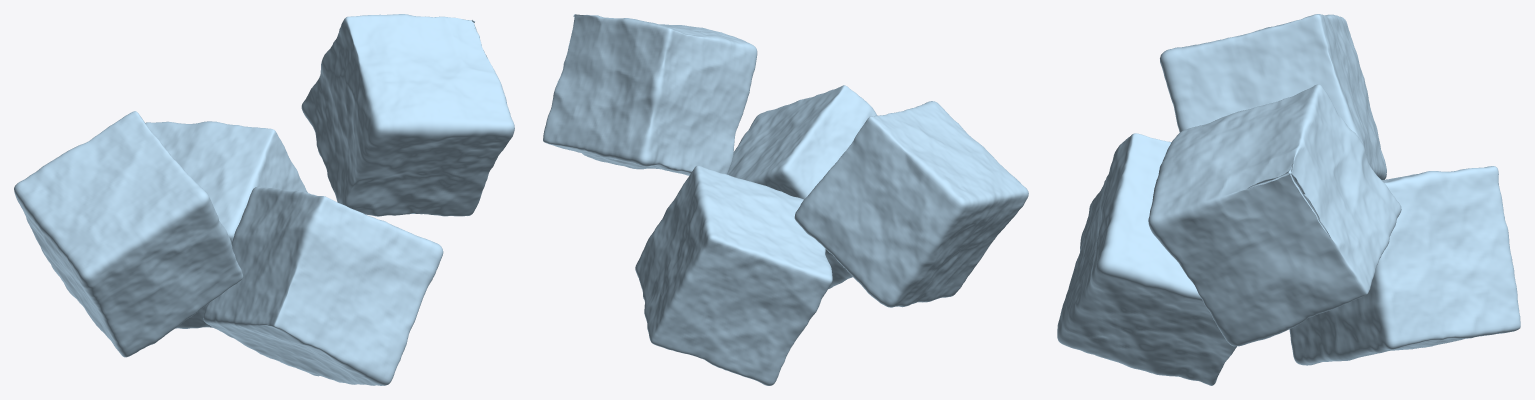
The model's file is FromWatertoIce.glb.
The picture shows the model from 3 angles, left to right: view 1: azimuth 30°, elevation 25°; view 2: azimuth 150°, elevation 25°; view 3: azimuth 270°, elevation 25°; orthographic projection. The views are drawn at different scales.
Parts seen in each view (by area): view 1: Cube.002_3; view 2: Cube.002_3; view 3: Cube.002_3.
Boxes of the visible parts, x1=… form: Cube.002_3: x1=14, y1=14, x2=514, y2=385; Cube.002_3: x1=543, y1=14, x2=1028, y2=385; Cube.002_3: x1=1057, y1=14, x2=1520, y2=385.
Bounding box in the file's own units: 2.41 × 1.61 × 1.96.
